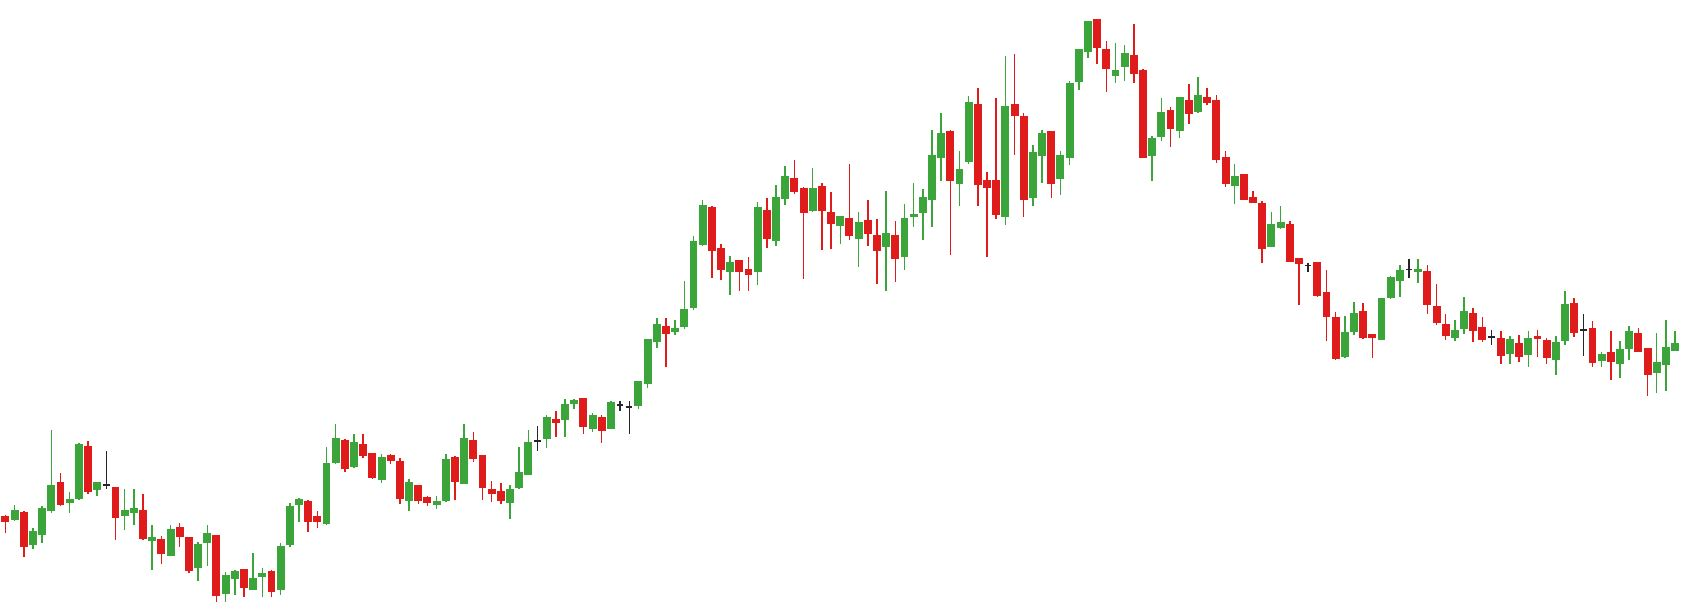buy: (405, 454, 514, 530)
sell: (1000, 10, 1113, 146)
